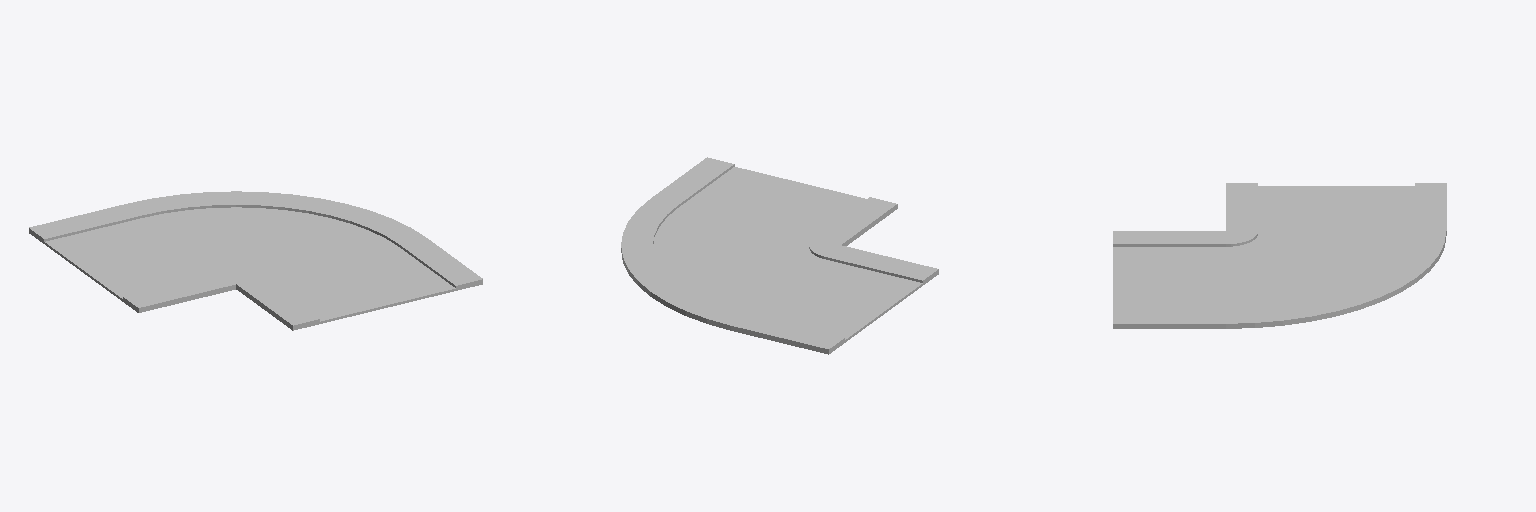
Rendered from road5.obj.
3 views of the same model, side by side, from view 1: azimuth 30°, elevation 25°; view 2: azimuth 150°, elevation 25°; view 3: azimuth 270°, elevation 25° (orthographic).
Parts seen in each view (by area): view 1: road5_Plane.017; view 2: road5_Plane.017; view 3: road5_Plane.017.
Part boxes in pixels (x1,y1,x2,y2): road5_Plane.017: (29,191,482,330); road5_Plane.017: (621,157,938,354); road5_Plane.017: (1113,183,1446,328).
Size of the model in its own units: 14.73 by 0.25 by 14.73.